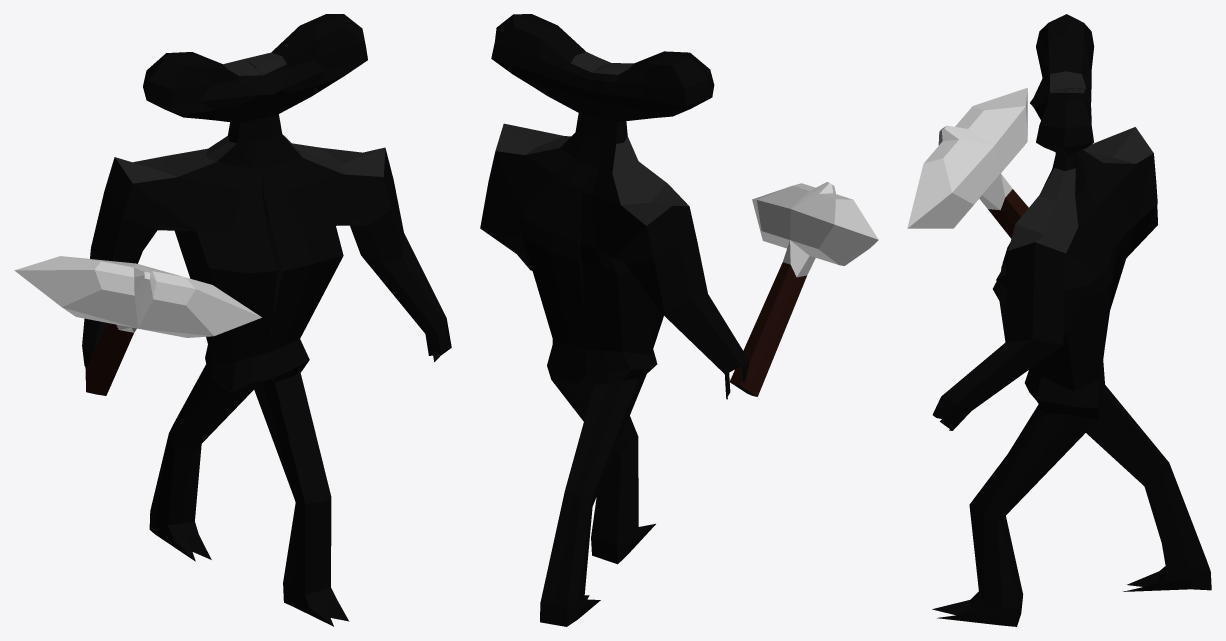
The model's file is GiantWalk1.obj.
The picture shows the model from 3 angles, left to right: view 1: azimuth 30°, elevation 25°; view 2: azimuth 150°, elevation 25°; view 3: azimuth 270°, elevation 25°; orthographic projection.
Visible parts, largest first — view 1: Cube; view 2: Cube; view 3: Cube.
Boxes of the visible parts, left/top/right/bottom form: Cube: left=14, top=14, right=451, bottom=626; Cube: left=480, top=14, right=878, bottom=626; Cube: left=907, top=14, right=1211, bottom=626.
Bounding box in the file's own units: 21.92 × 29.04 × 14.5.
